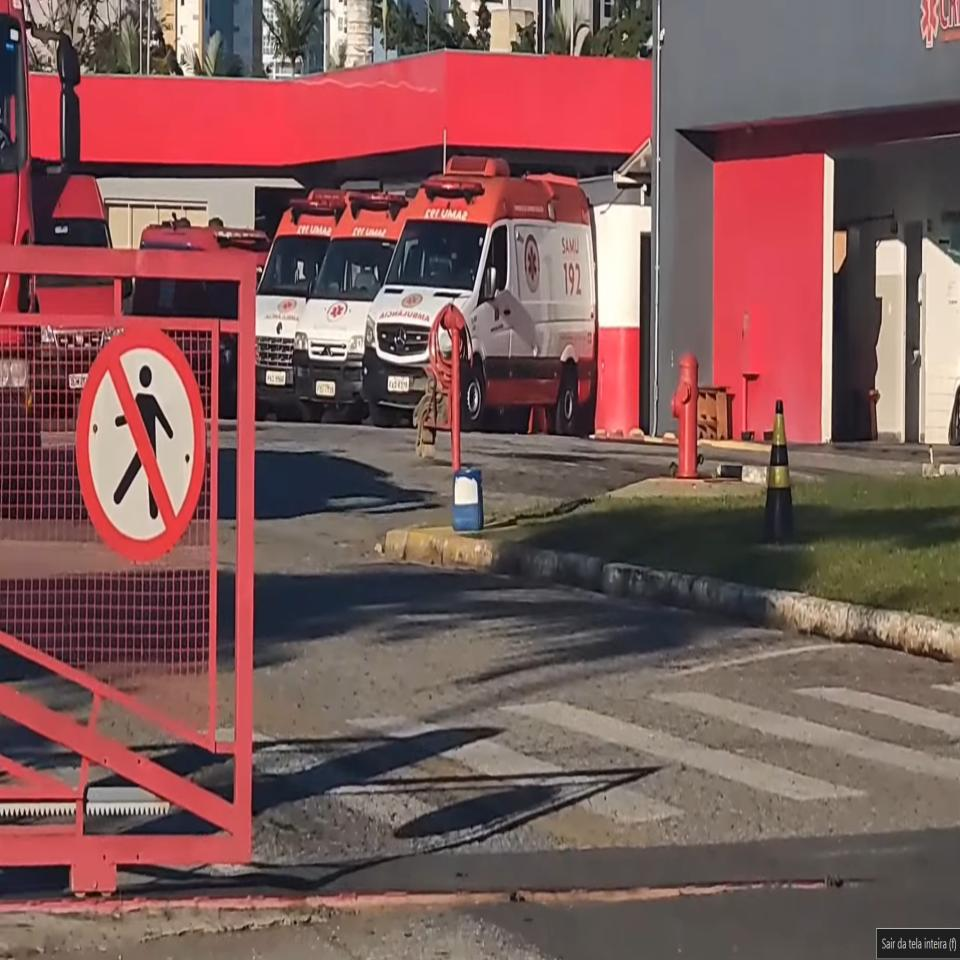bombeiro: (366, 154, 597, 436), (294, 189, 412, 417), (248, 191, 342, 413)
